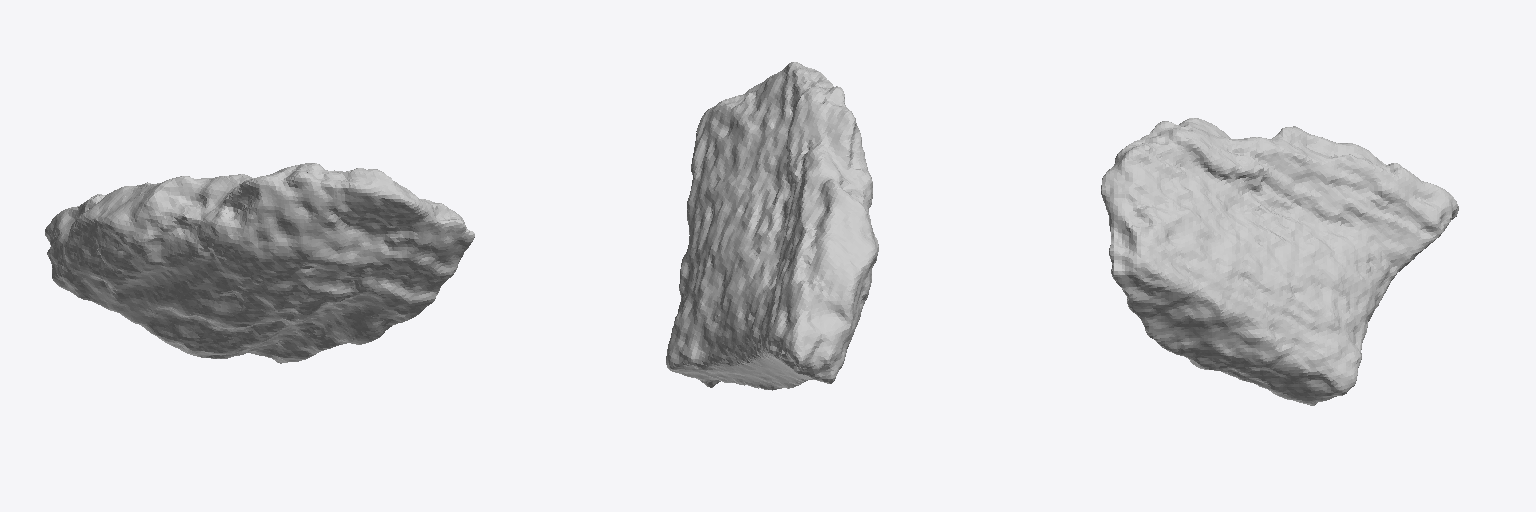
Rendered from MB CE 6 ANT.obj.
3 renders of one model, left to right at view 1: azimuth 30°, elevation 25°; view 2: azimuth 150°, elevation 25°; view 3: azimuth 270°, elevation 25°, orthographic.
Size of the model in its own units: 23.92 by 21.64 by 27.23.